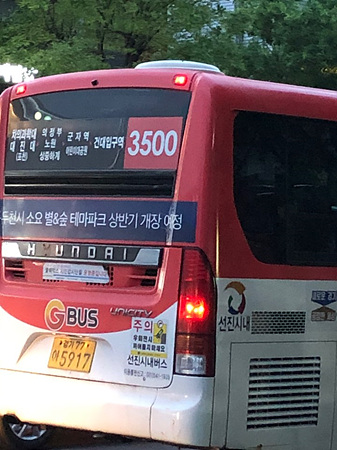bnum: (126, 125, 179, 159)
